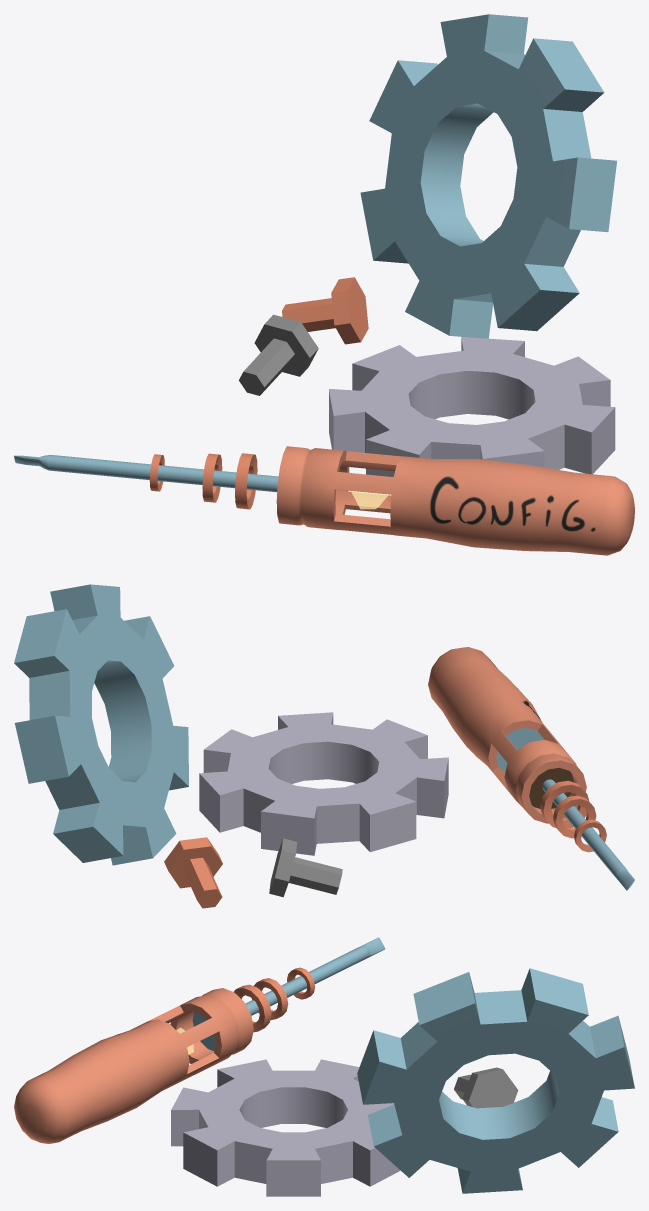
File: botãoConfig.fbx
The picture shows the model from 3 angles, top to bottom: view 1: azimuth 30°, elevation 25°; view 2: azimuth 150°, elevation 25°; view 3: azimuth 270°, elevation 25°; orthographic projection. The views are drawn at different scales.
Parts seen in each view (by area): view 1: Engrenagem2, Chave de Fenda Magica, Engrenagem1, Parafuso1, Parafuso2; view 2: Engrenagem2, Engrenagem1, Chave de Fenda Magica, Parafuso2, Parafuso1; view 3: Engrenagem2, Engrenagem1, Chave de Fenda Magica, Parafuso1.
Part boxes in pixels (x1,y1,x2,y2): Engrenagem2: (360,14,616,338); Chave de Fenda Magica: (14,446,634,555); Engrenagem1: (329,337,615,476); Parafuso1: (239,314,318,395); Parafuso2: (282,277,368,344); Engrenagem2: (14,584,188,865); Engrenagem1: (199,712,448,855); Chave de Fenda Magica: (428,647,634,890); Parafuso2: (164,837,222,908); Parafuso1: (269,838,342,897); Engrenagem2: (357,968,634,1193); Engrenagem1: (171,1059,400,1196); Chave de Fenda Magica: (14,937,385,1143); Parafuso1: (454,1067,518,1108).
Bounding box in the file's own units: 567 × 255 × 585.
